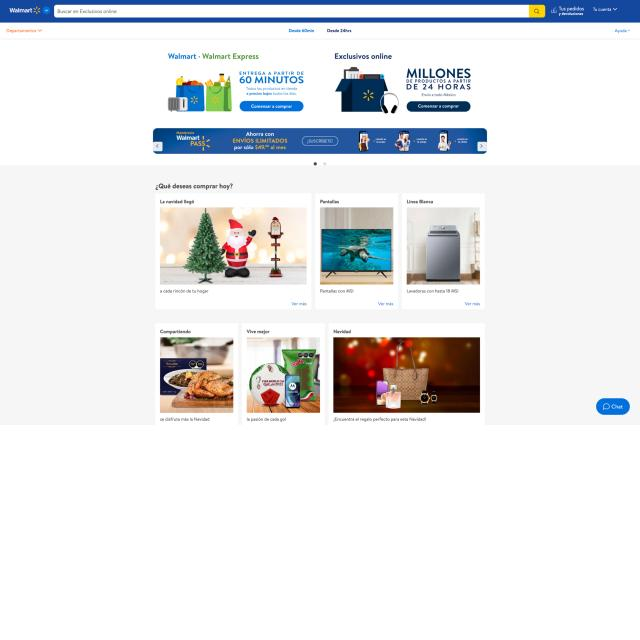input: (54, 4, 545, 18)
logo: (9, 6, 41, 15)
